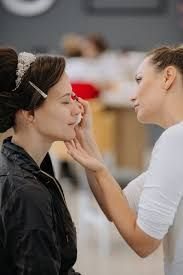no-mask: (11, 51, 89, 148), (129, 44, 183, 129)
